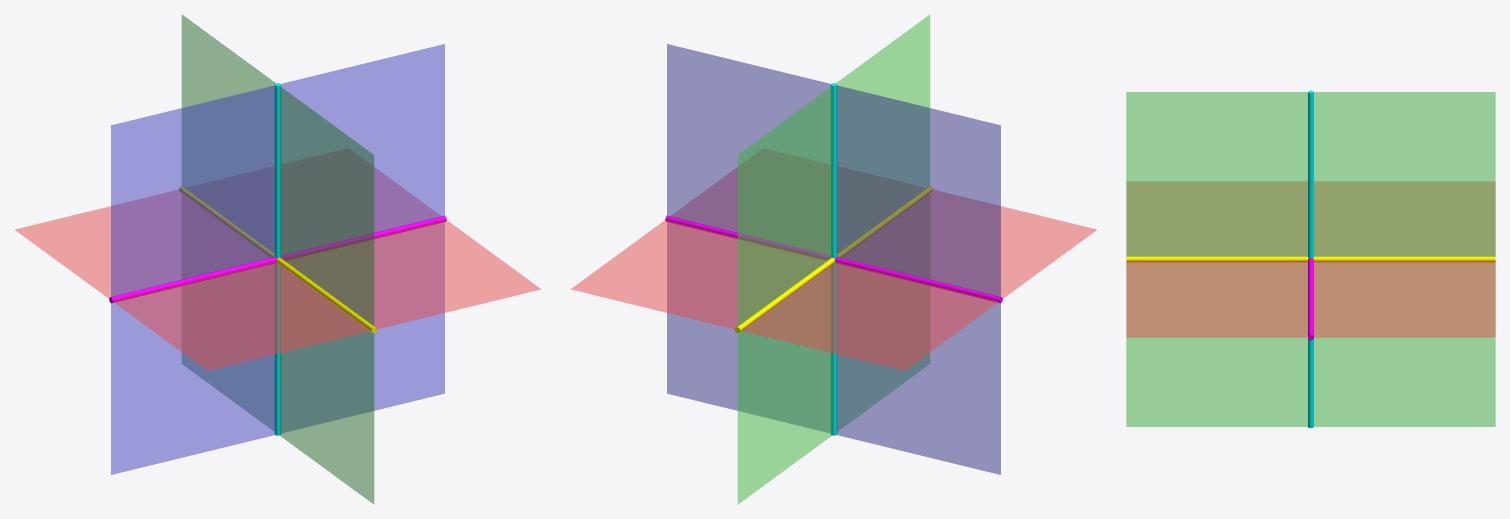
The model's file is planes+axes.glb.
The picture shows the model from 3 angles, left to right: view 1: azimuth 30°, elevation 25°; view 2: azimuth 150°, elevation 25°; view 3: azimuth 270°, elevation 25°; orthographic projection. The views are drawn at different scales.
Visible parts, largest first — view 1: p3, p2, p1, Cylinder, Cylinder.002, Cylinder.001; view 2: p3, p2, p1, Cylinder, Cylinder.002, Cylinder.001; view 3: p2, p1, Cylinder.001, Cylinder, Cylinder.002.
Part boxes in pixels (left/top/right/bottom): p3: left=111, top=44, right=444, bottom=474; p2: left=181, top=14, right=374, bottom=504; p1: left=15, top=167, right=540, bottom=370; Cylinder: left=274, top=83, right=281, bottom=435; Cylinder.002: left=109, top=215, right=446, bottom=303; Cylinder.001: left=179, top=186, right=377, bottom=332; p3: left=667, top=44, right=1000, bottom=474; p2: left=737, top=14, right=930, bottom=504; p1: left=571, top=167, right=1096, bottom=370; Cylinder: left=830, top=83, right=837, bottom=435; Cylinder.002: left=665, top=215, right=1002, bottom=303; Cylinder.001: left=734, top=186, right=932, bottom=332; p2: left=1126, top=92, right=1495, bottom=426; p1: left=1126, top=181, right=1495, bottom=337; Cylinder.001: left=1126, top=256, right=1495, bottom=262; Cylinder: left=1308, top=90, right=1313, bottom=428; Cylinder.002: left=1308, top=258, right=1313, bottom=340.
Size of the model in its own units: 2 by 2 by 2.
